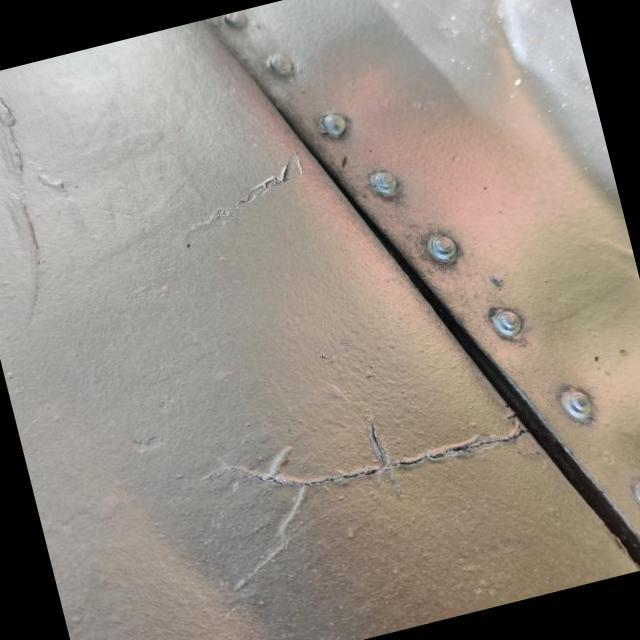Rupture: (177, 358, 562, 564)
